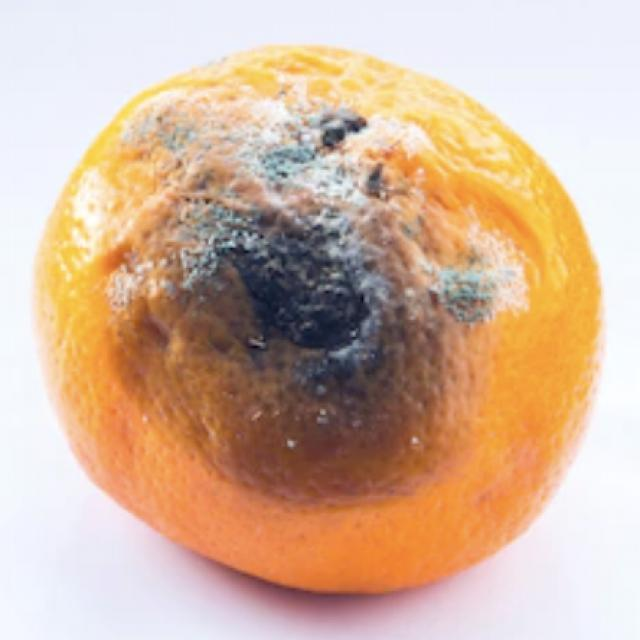rotten-orange: (37, 43, 600, 600)
